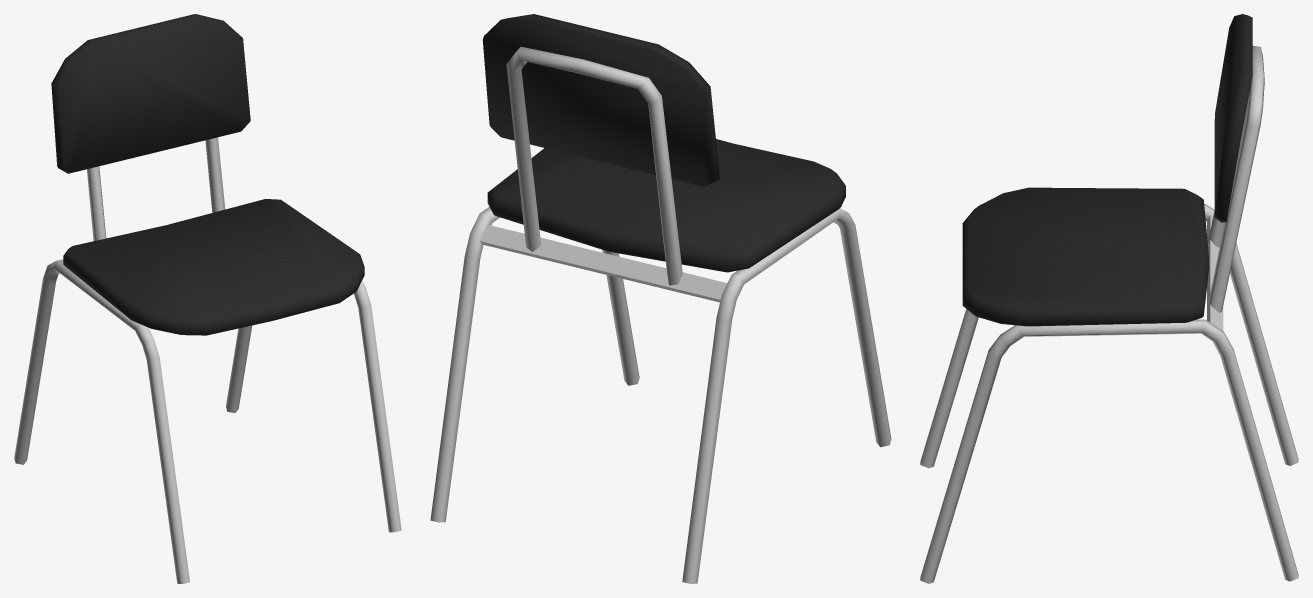
Rendered from Chair_Metal_02.FBX.
3 renders of one model, left to right at view 1: azimuth 30°, elevation 25°; view 2: azimuth 150°, elevation 25°; view 3: azimuth 270°, elevation 25°, orthographic. The views are drawn at different scales.
Visible parts, largest first — view 1: Chair02_Plastic, Chair02_Legs; view 2: Chair02_Plastic, Chair02_Legs; view 3: Chair02_Plastic, Chair02_Legs.
Part boxes in pixels (<box>): Chair02_Plastic: <box>51,14,364,335</box>; Chair02_Legs: <box>14,137,401,583</box>; Chair02_Plastic: <box>482,14,845,272</box>; Chair02_Legs: <box>430,46,891,583</box>; Chair02_Plastic: <box>962,14,1252,326</box>; Chair02_Legs: <box>920,45,1298,583</box>.
Bounding box in the file's own units: 53.01 × 67.37 × 94.08.
